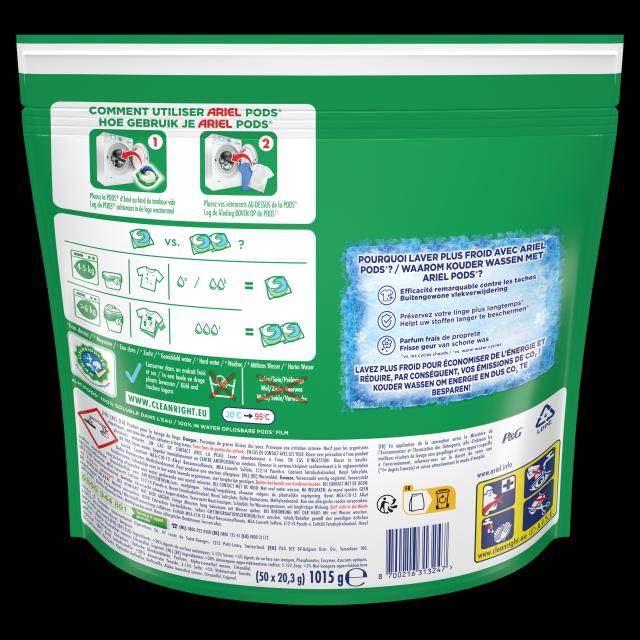GHS_Symbol_CORROSION: (78, 408, 118, 448)
